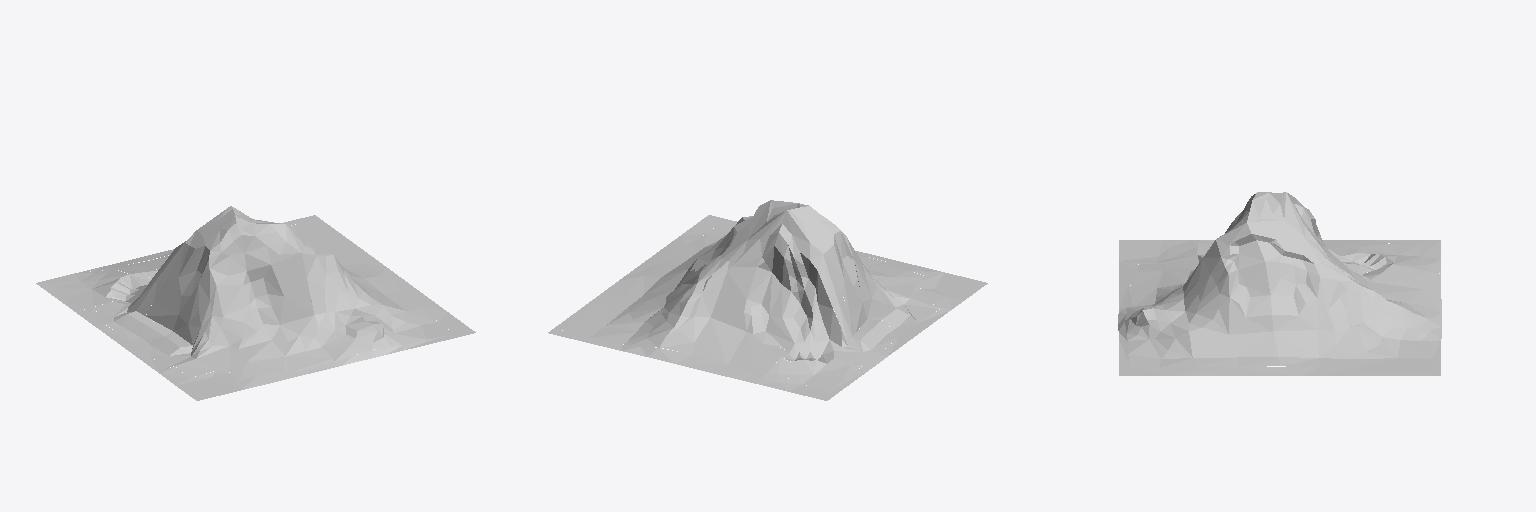
The model's file is mountain.obj.
The picture shows the model from 3 angles: view 1: azimuth 30°, elevation 25°; view 2: azimuth 150°, elevation 25°; view 3: azimuth 270°, elevation 25°; orthographic projection.
Parts seen in each view (by area): view 1: Mountain_Plane.002; view 2: Mountain_Plane.002; view 3: Mountain_Plane.002.
Part boxes in pixels (x1,y1,x2,y2): Mountain_Plane.002: (36,206,475,400); Mountain_Plane.002: (548,200,987,400); Mountain_Plane.002: (1118,192,1441,375).
Size of the model in its own units: 2 by 0.7309 by 2.